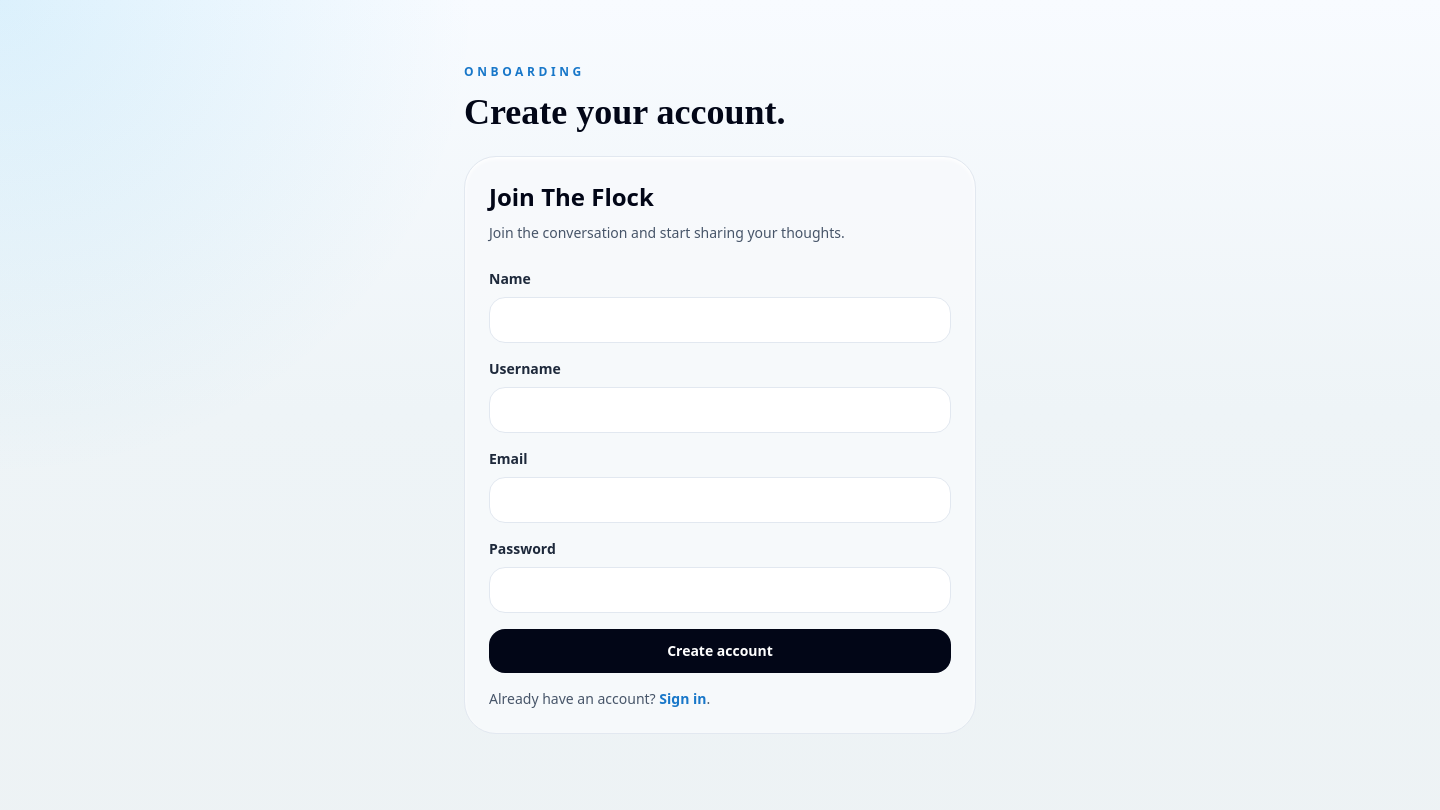
Test: App authentication flow › submits the register form successfully
The image size is (1440, 810).
Type "New User" into the field labelled "Name" at (720, 320), box [489, 297, 951, 343]
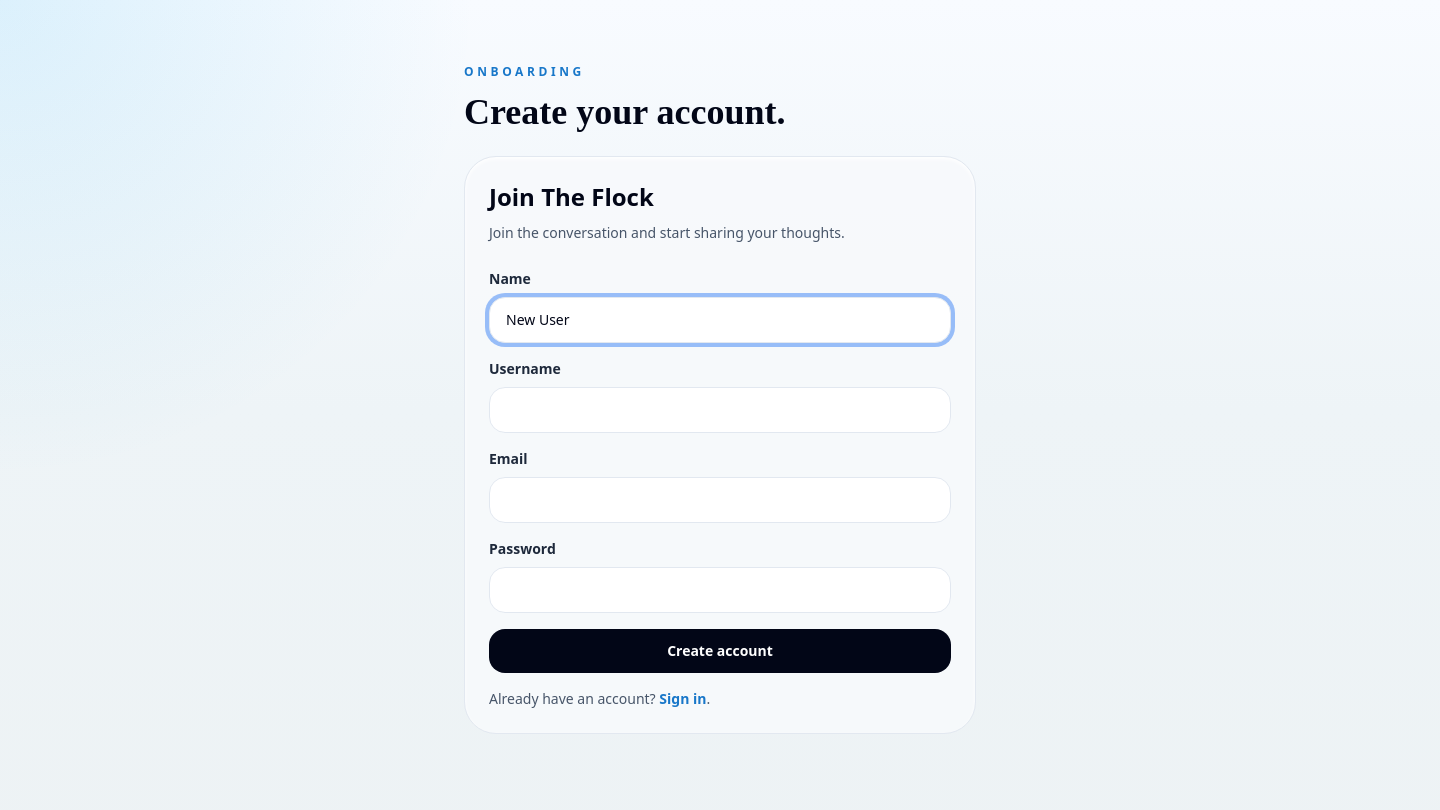
Type "newuser" into the field labelled "Username" at (720, 410), box [489, 387, 951, 433]
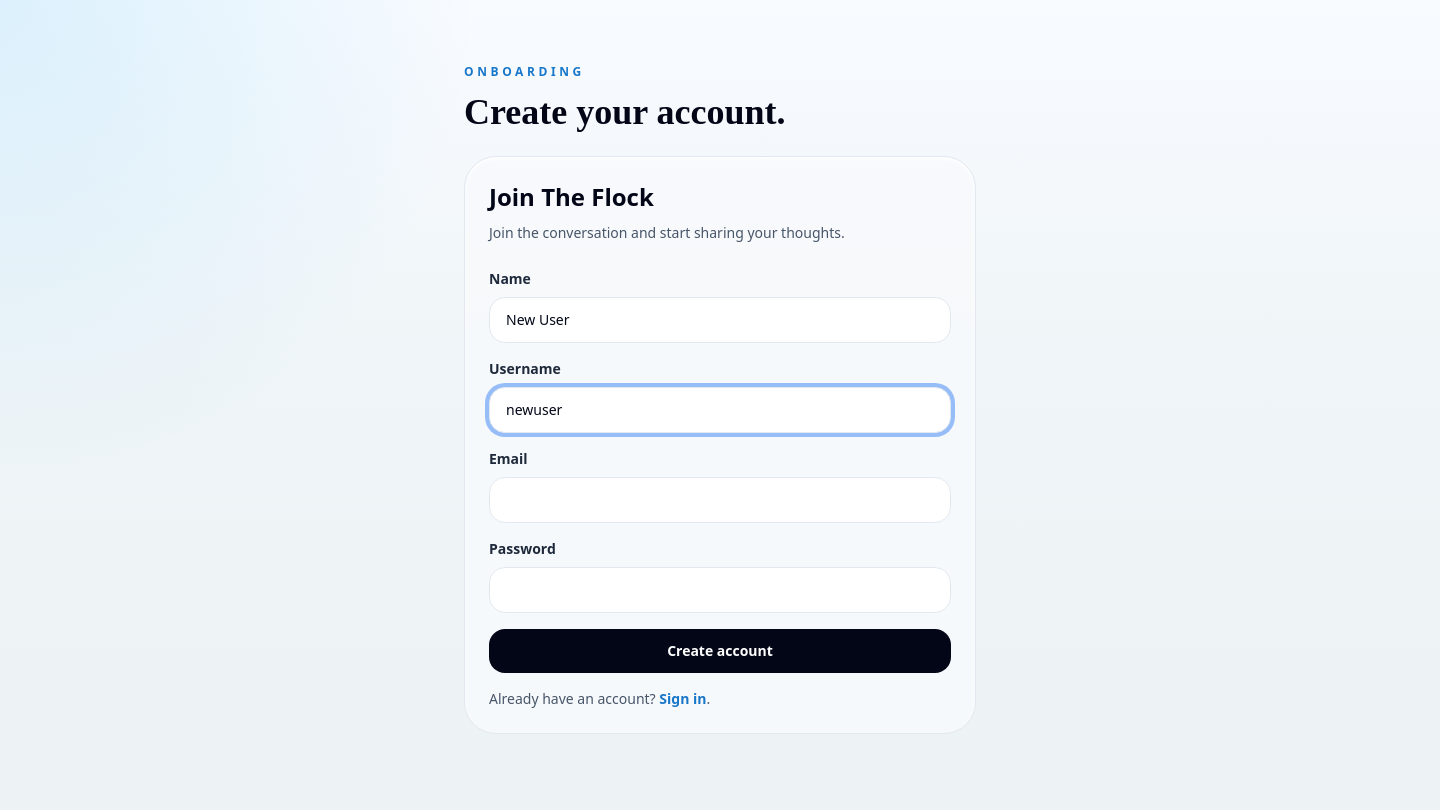
Type "new@example.com" into the field labelled "Email" at (720, 500), box [489, 477, 951, 523]
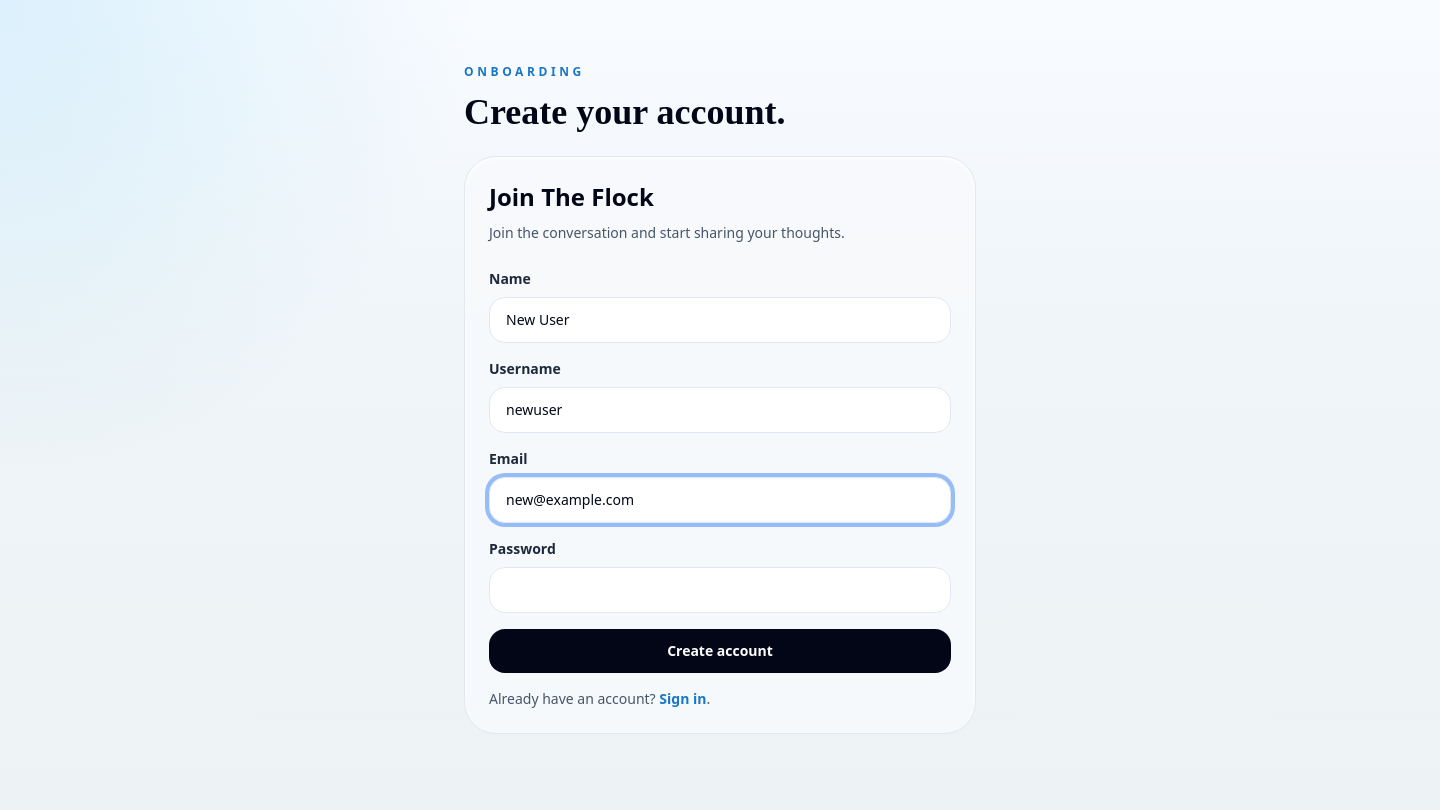
Type "Password123!" into the password field labelled "Password" at (720, 590), box [489, 567, 951, 613]
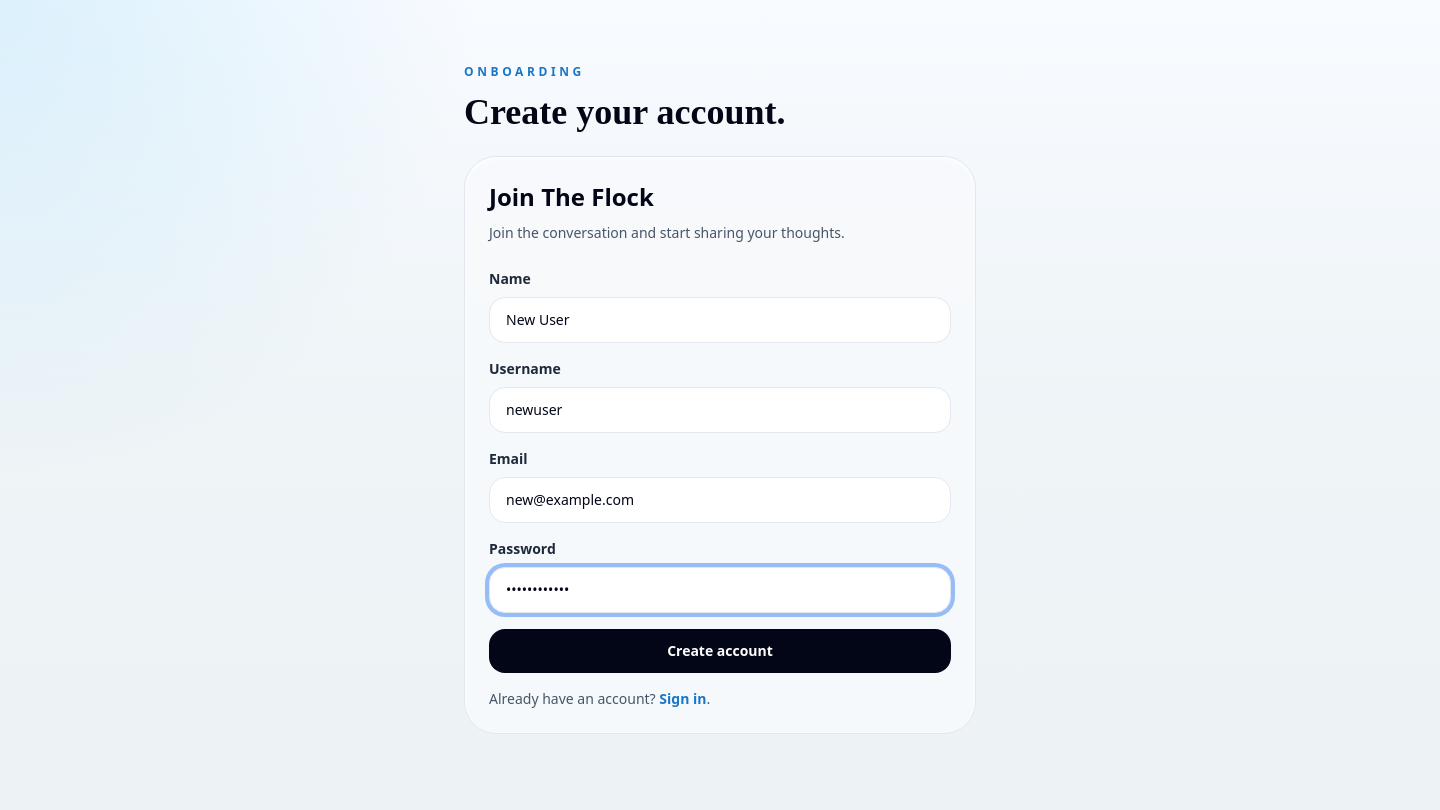
Click the button "Create account" at (720, 651), box [489, 629, 951, 673]
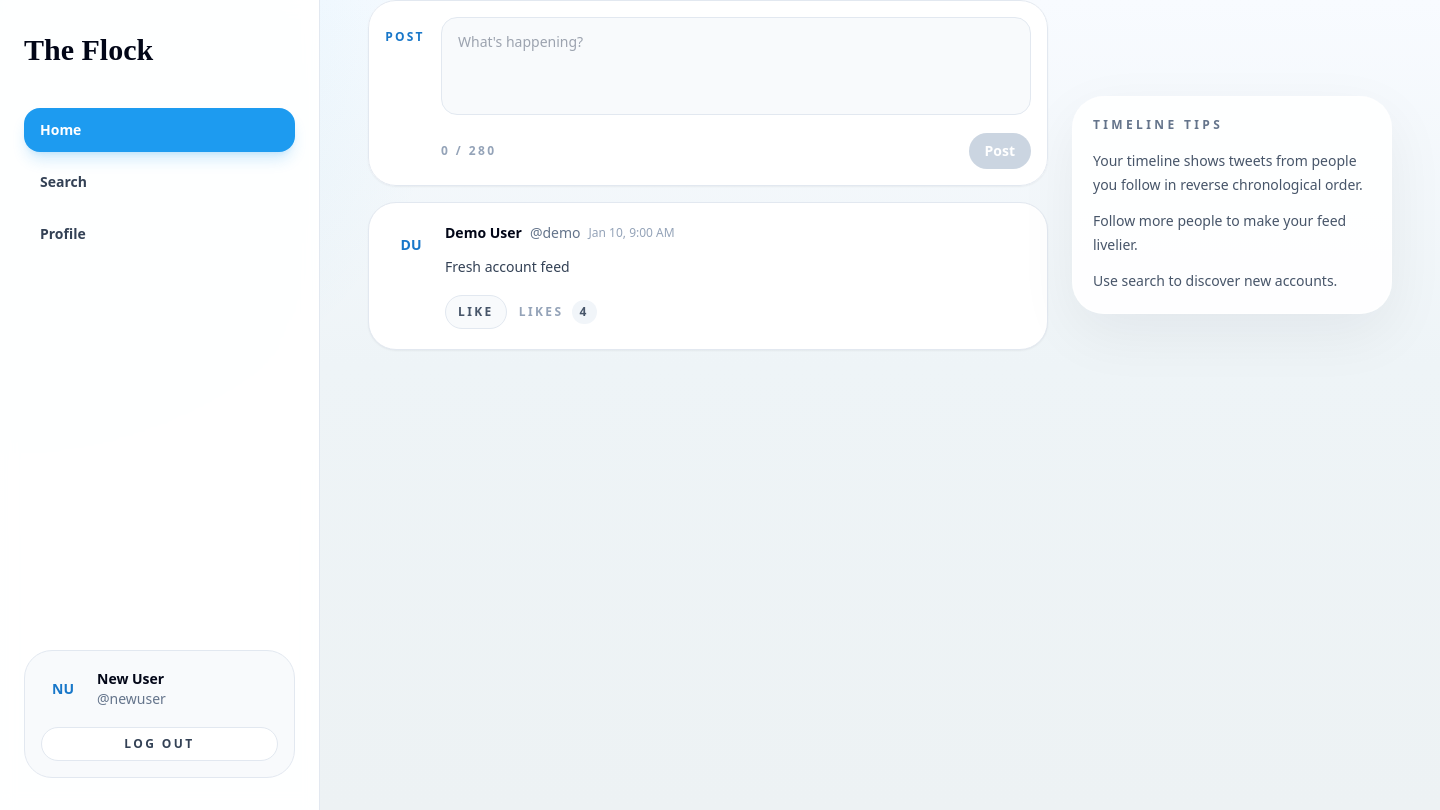
Now the text "Fresh account feed" is shown, box [445, 257, 570, 276]
